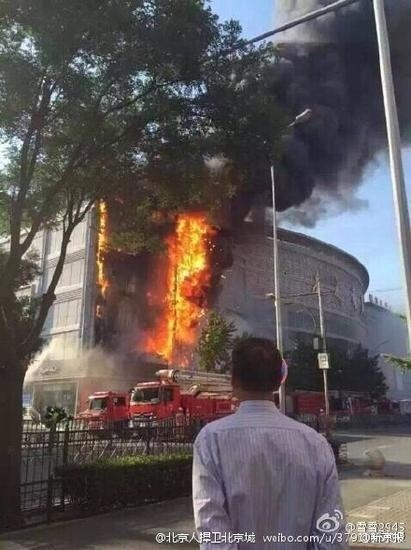fire: (154, 211, 214, 360), (93, 198, 110, 293)
